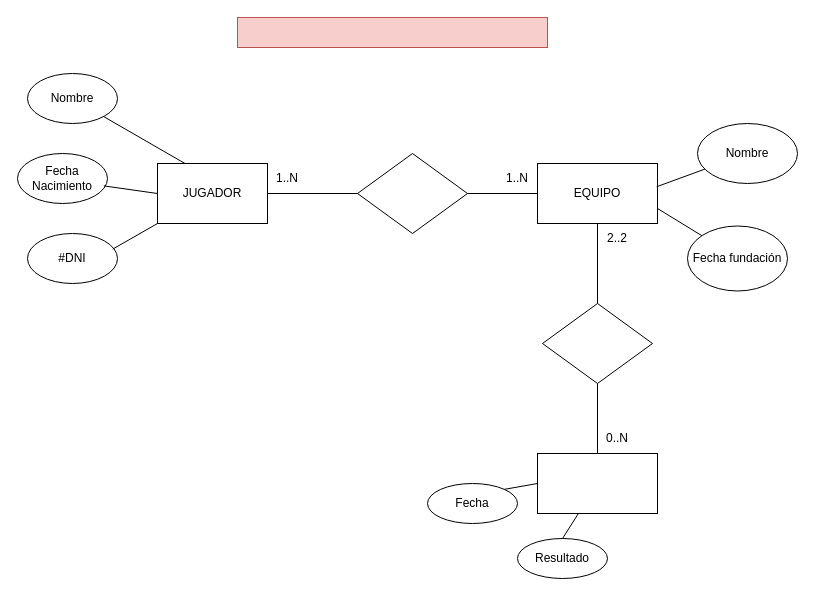
Some shapes in this 815 by 596 pixel diagram are drawn without their labels. Here are the shapes that lost their labels. From the top down, the centre of each, then its label:
the point at 392,32: Liga League of Legends
the point at 412,193: Pertenece
the point at 597,343: Juega
the point at 597,483: PARTIDA
